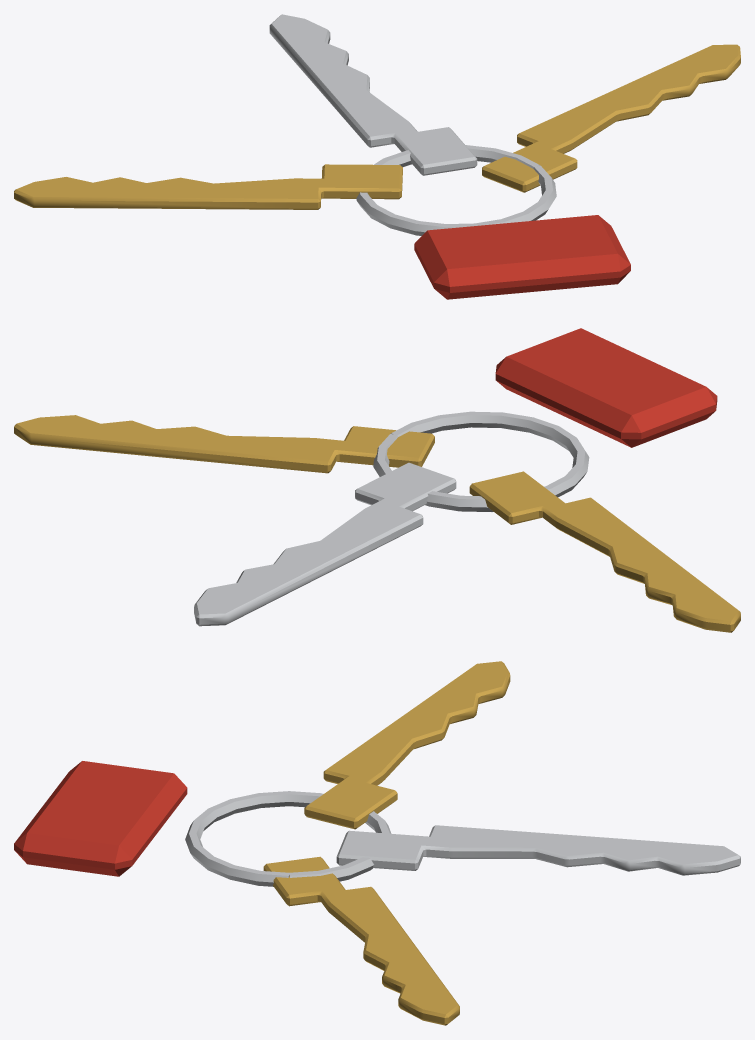
The model's file is house_keys.glb.
3 views of the same model, one above another, from view 1: azimuth 30°, elevation 25°; view 2: azimuth 150°, elevation 25°; view 3: azimuth 270°, elevation 25° (orthographic). The views are drawn at different scales.
Parts seen in each view (by area): view 1: house_keys; view 2: house_keys; view 3: house_keys.
Part boxes in pixels (x1=…): house_keys: x1=14, y1=14, x2=740, y2=299; house_keys: x1=14, y1=328, x2=740, y2=632; house_keys: x1=14, y1=661, x2=740, y2=1025.
Size of the model in its own units: 0.1 by 0.00416 by 0.0877.
